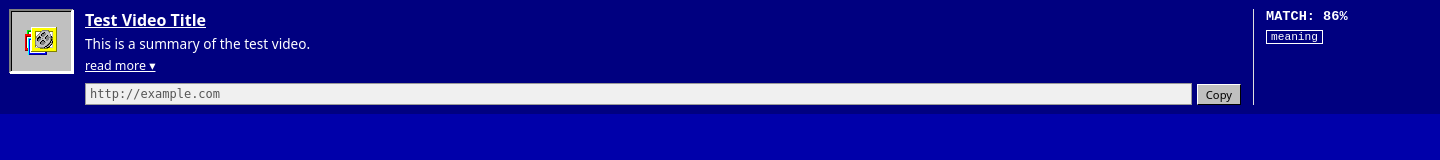
Test: VideoCard Component › a long description › should be cut short, and unfolded and folded back on request
The width and height of the screenshot is (1440, 160).
Click the button "read more ▾".
click(120, 65)  # box [85,57,156,74]
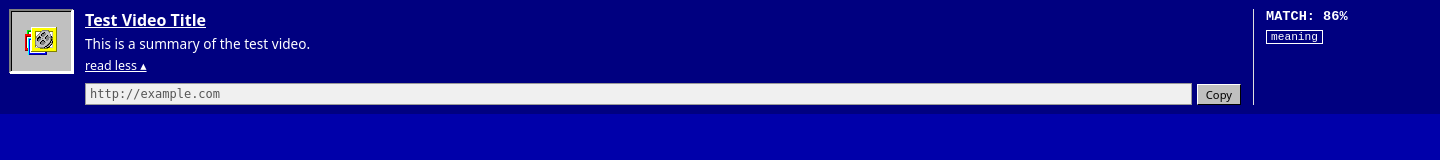
Click the button "read less ▴".
click(116, 65)  # box [85,57,146,74]
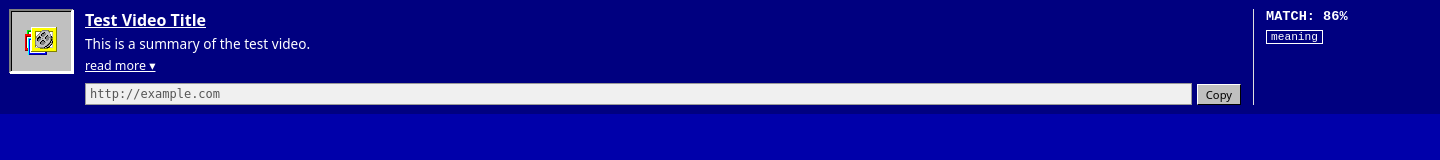
Now the button "read more ▾" is shown, box [85,57,156,74]
